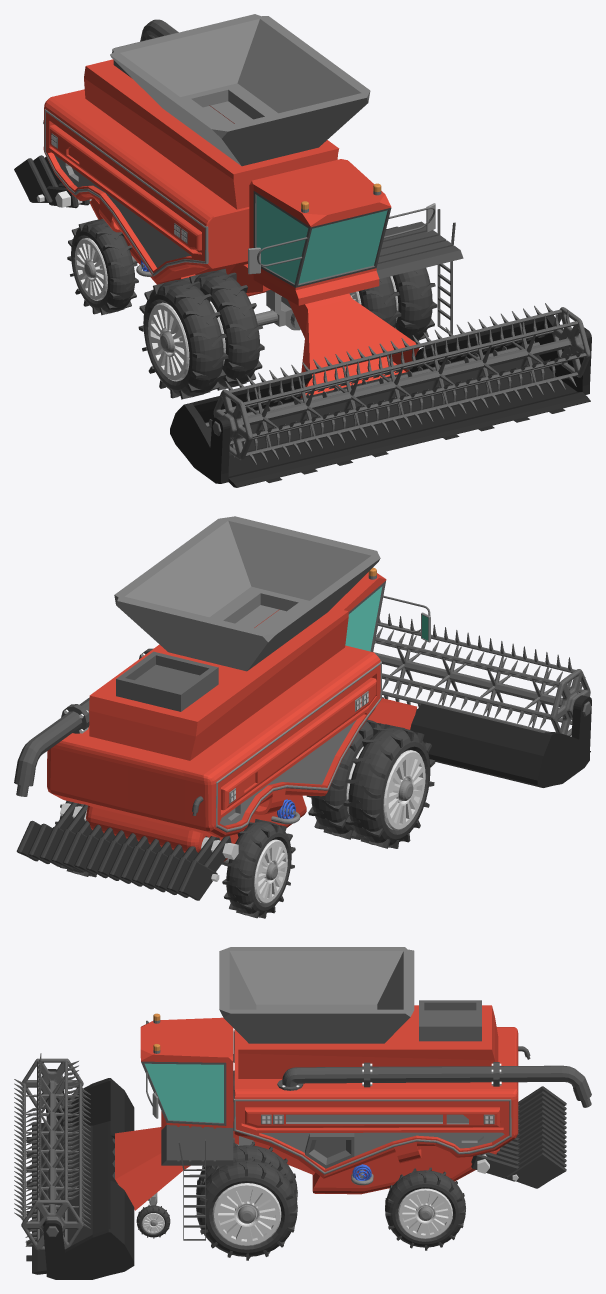
File: harvester.fbx
The picture shows the model from 3 angles, top to bottom: view 1: azimuth 30°, elevation 25°; view 2: azimuth 150°, elevation 25°; view 3: azimuth 270°, elevation 25°; orthographic projection. The views are drawn at different scales.
Visible parts, largest first — view 1: harvester, cutterbar, cutterblades, wheel04, whell06, whell03, harvesterback, platformauger; view 2: harvester, wheel04, harvesterback, cutterblades, cutterbar, whell06, pipe; view 3: harvester, cutterbar, cutterblades, whell03, pipe, harvesterback, whell05, whell01.
Part boxes in pixels (left/top/right/bottom): harvester: left=43, top=14, right=463, bottom=397; cutterbar: left=170, top=315, right=591, bottom=487; cutterblades: left=212, top=303, right=590, bottom=464; wheel04: left=138, top=268, right=264, bottom=399; whell06: left=67, top=218, right=138, bottom=315; whell03: left=349, top=226, right=437, bottom=341; harvesterback: left=14, top=155, right=91, bottom=208; platformauger: left=205, top=340, right=539, bottom=427; harvester: left=47, top=516, right=430, bottom=864; wheel04: left=306, top=719, right=435, bottom=848; harvesterback: left=16, top=802, right=238, bottom=900; cutterblades: left=373, top=613, right=591, bottom=735; cutterbar: left=382, top=695, right=591, bottom=787; whell06: left=222, top=819, right=295, bottom=918; pipe: left=14, top=648, right=153, bottom=796; harvester: left=115, top=947, right=530, bottom=1240; cutterbar: left=26, top=1069, right=134, bottom=1279; cutterblades: left=14, top=1053, right=90, bottom=1250; whell03: left=196, top=1141, right=297, bottom=1260; pipe: left=277, top=1062, right=591, bottom=1107; harvesterback: left=471, top=1086, right=566, bottom=1188; whell05: left=385, top=1167, right=465, bottom=1250; whell01: left=136, top=1204, right=170, bottom=1238.
Size of the model in its own units: 191 by 130 by 300.
